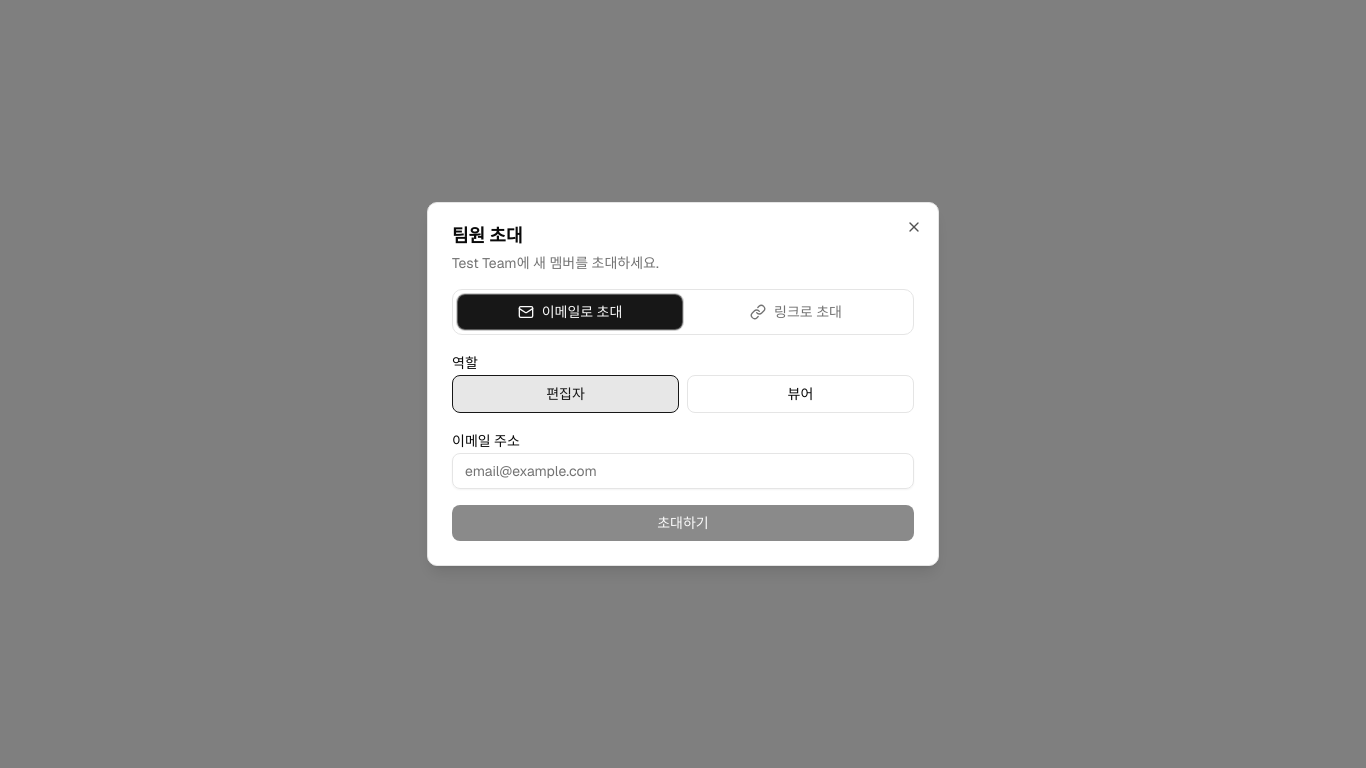
InviteDialog › shows error when createEmailInvitation fails
In the field with placeholder "email@example.com": (683, 471) [452, 453, 914, 489], type "test@example.com"
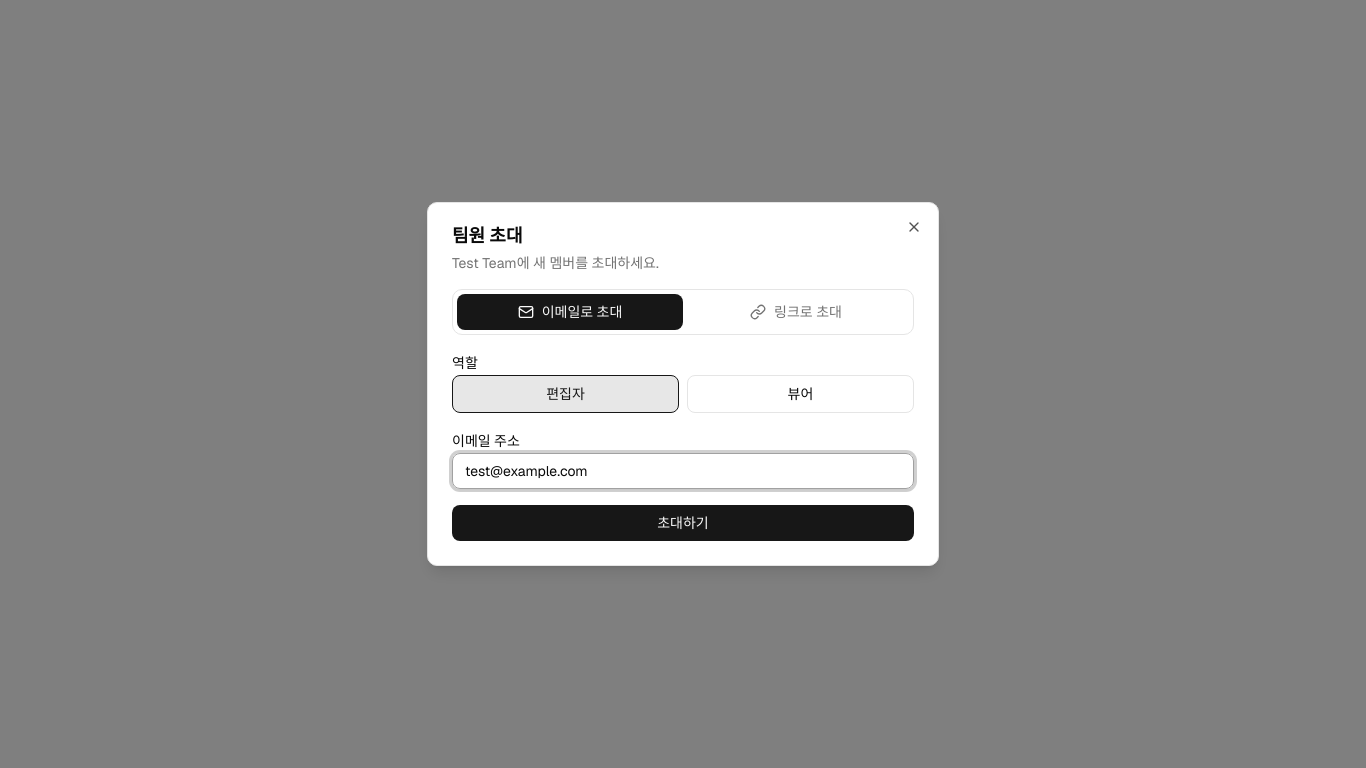
Click the button "초대하기": click(683, 523) [452, 505, 914, 541]
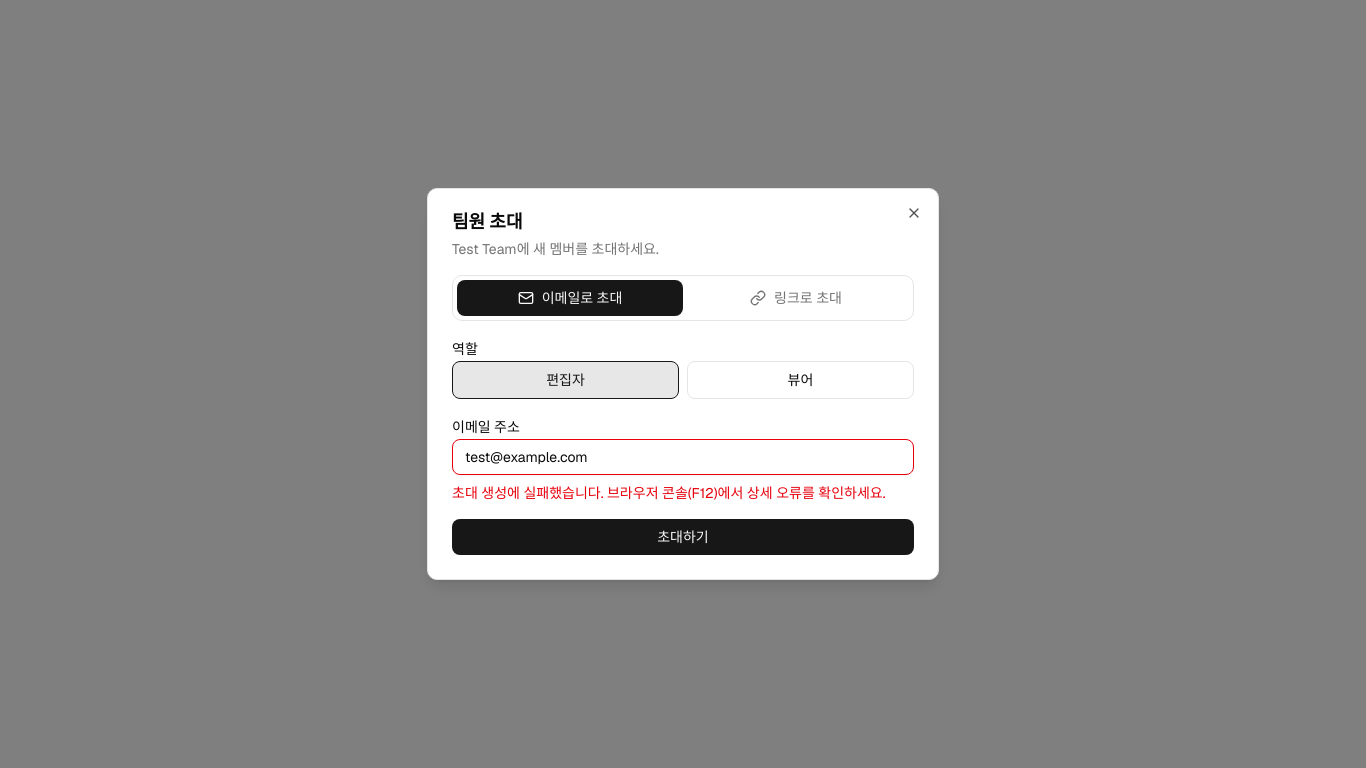
Expected: the text "초대 생성에 실패했습니다. 브라우저 콘솔(F12)에서 상세 오류를 확인하세요." is shown, [452, 483, 914, 503]
